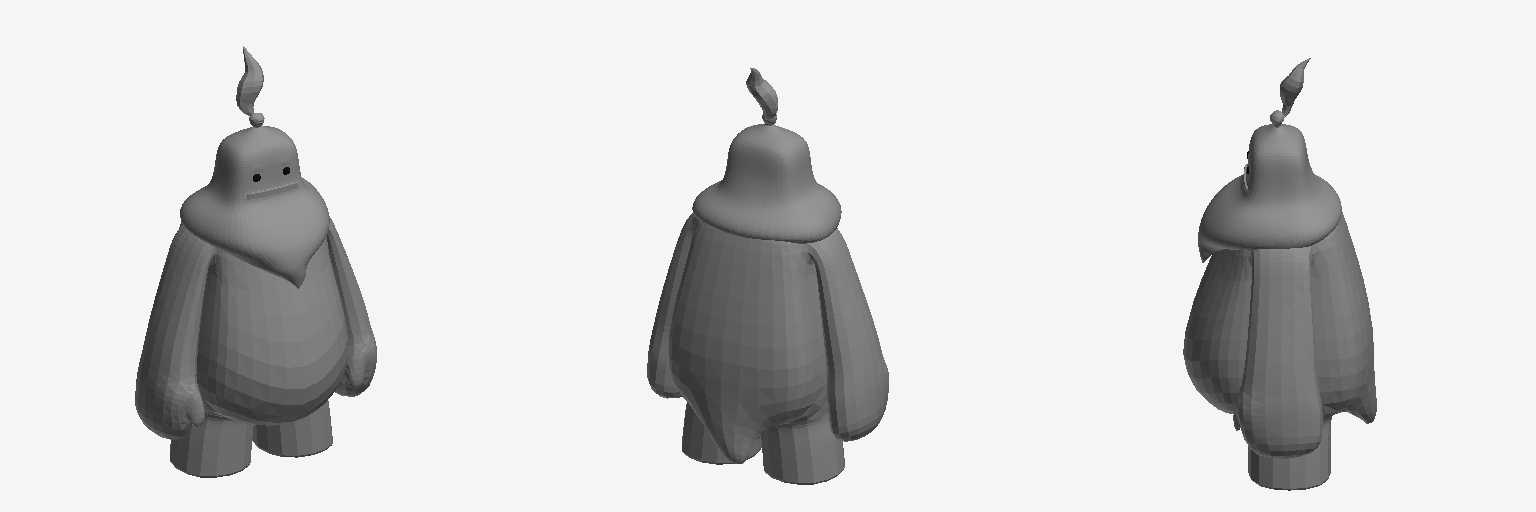
Rendered from Pinky.obj.
The picture shows the model from 3 angles: view 1: azimuth 30°, elevation 25°; view 2: azimuth 150°, elevation 25°; view 3: azimuth 270°, elevation 25°; orthographic projection.
Parts seen in each view (by area): view 1: Box007; view 2: Box007; view 3: Box007.
Part boxes in pixels (x1,y1,x2,y2): Box007: (135, 46, 376, 477); Box007: (647, 68, 888, 484); Box007: (1183, 58, 1376, 490).
Size of the model in its own units: 91.7 by 159 by 69.84.